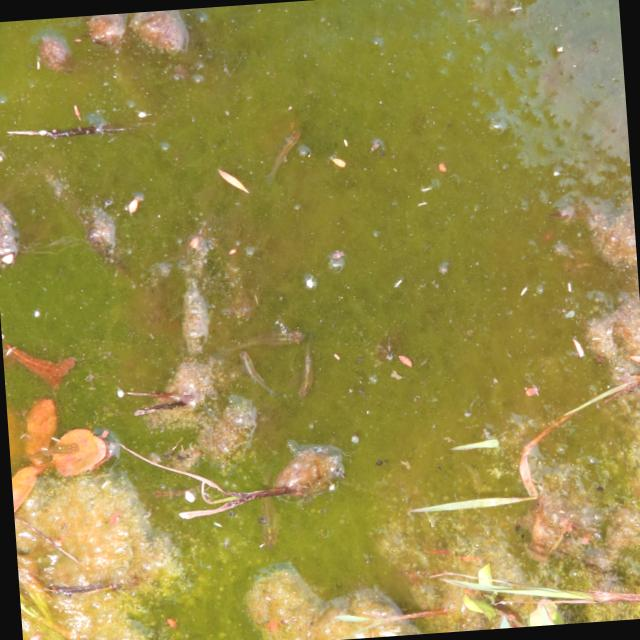Sivrisinek Baligi: (262, 126, 304, 176), (228, 324, 306, 349), (237, 353, 270, 397), (294, 345, 322, 395)
